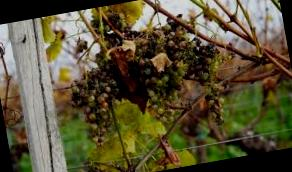Grape Rotten: (65, 64, 129, 152)
